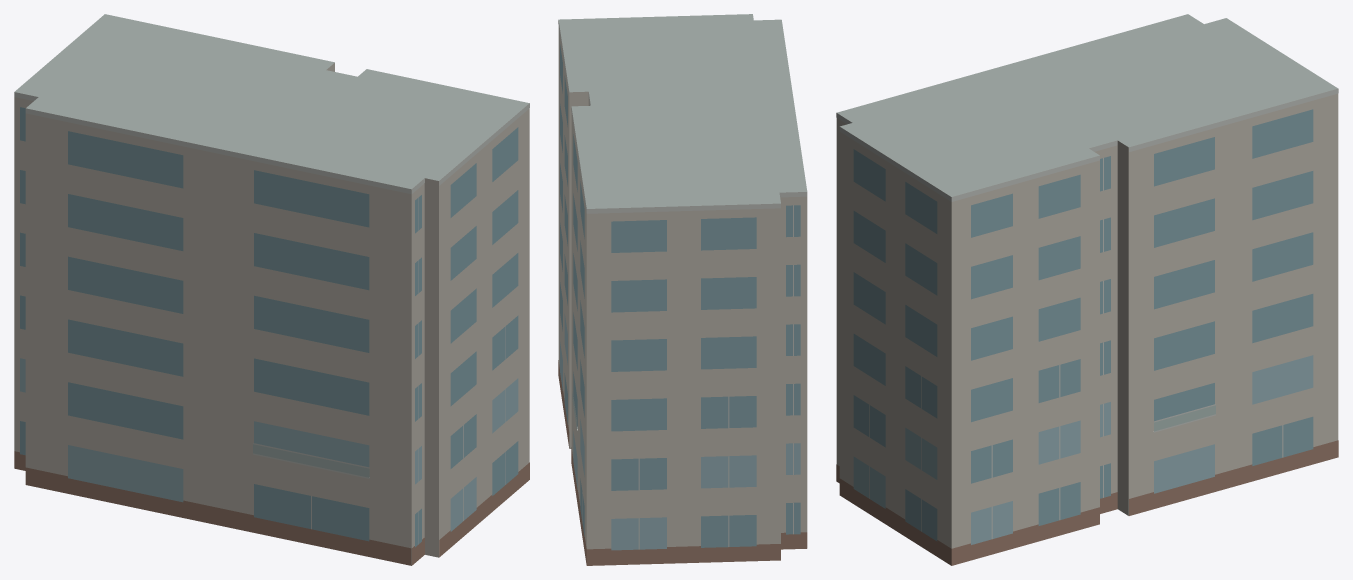
File: survey-upis-32999178.glb
3 views of the same model, side by side, from view 1: azimuth 30°, elevation 25°; view 2: azimuth 150°, elevation 25°; view 3: azimuth 270°, elevation 25° (orthographic). The views are drawn at different scales.
Parts seen in each view (by area): view 1: survey-upis-32999178.tmp; view 2: survey-upis-32999178.tmp; view 3: survey-upis-32999178.tmp.
Boxes of the visible parts, left/top/right/bottom form: survey-upis-32999178.tmp: left=14, top=14, right=529, bottom=565; survey-upis-32999178.tmp: left=558, top=14, right=807, bottom=565; survey-upis-32999178.tmp: left=836, top=14, right=1338, bottom=565.
Size of the model in its own units: 19.5 by 18.3 by 22.58.
